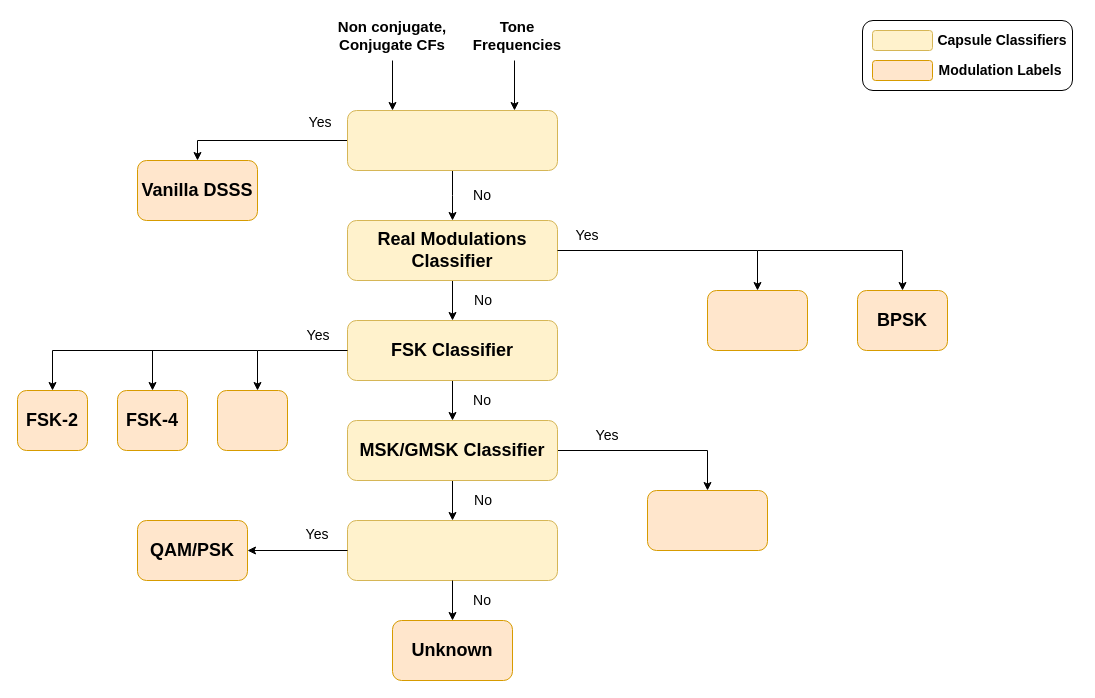
Image size: 1095x698. Some labels were removed from this diagram. The shapes that lost their labels are listed below. From the top down, each one's centre as x and y in pixels, then its label:
At pixel 452 140: "DSSS Classifier".
At pixel 757 320: "OOK".
At pixel 252 420: "FSK-8".
At pixel 707 520: "Vanilla MSK/GMSK".
At pixel 452 550: "PSK/QAM Classifier".
